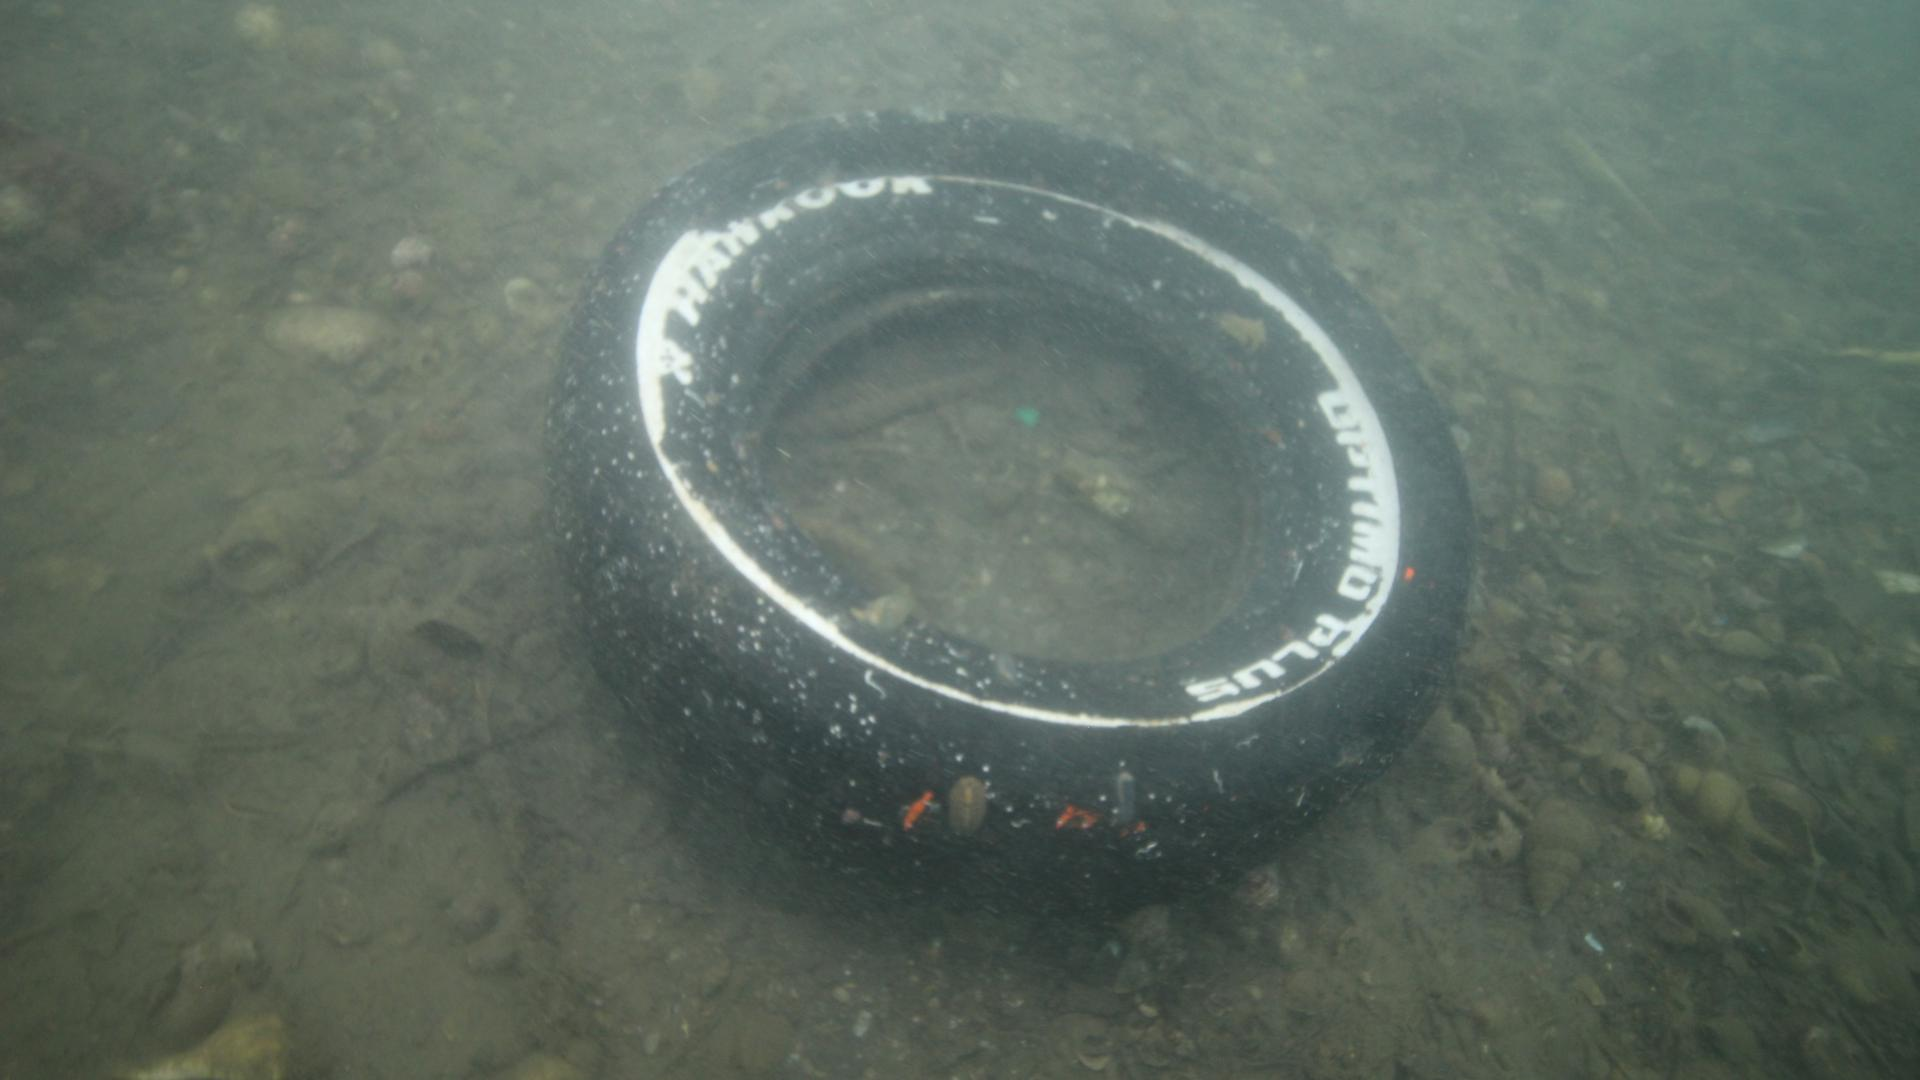tire: (545, 102, 1472, 922)
